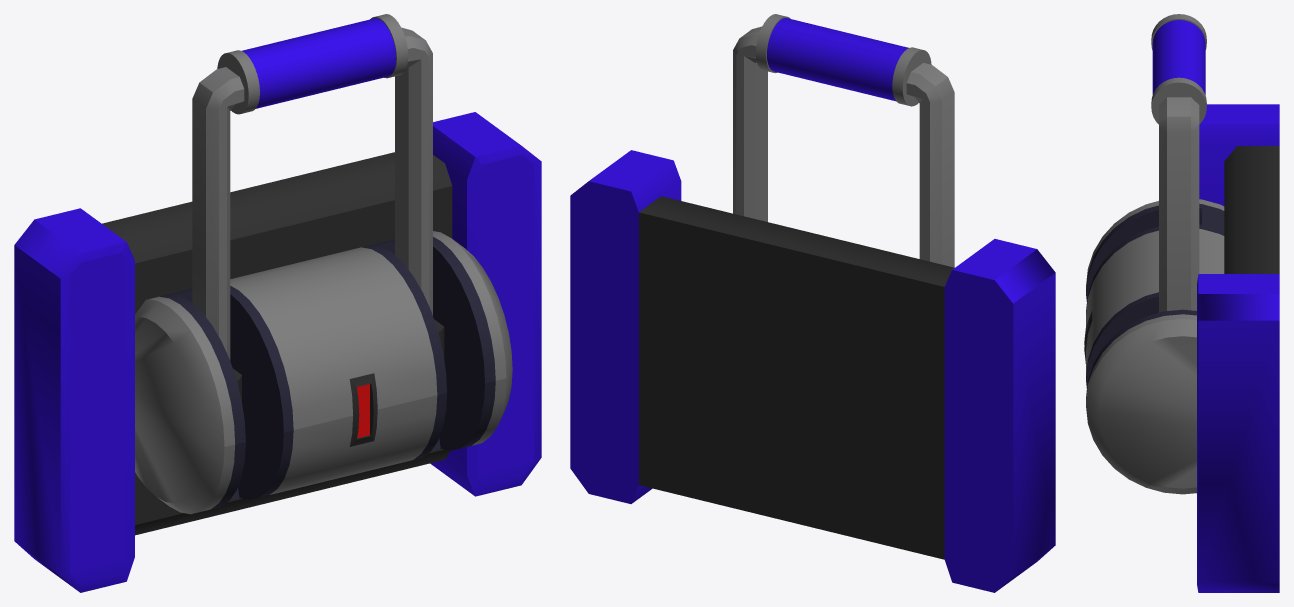
Rendered from Lever_3.fbx.
3 renders of one model, left to right at view 1: azimuth 30°, elevation 25°; view 2: azimuth 150°, elevation 25°; view 3: azimuth 270°, elevation 25°, orthographic. The views are drawn at different scales.
Parts seen in each view (by area): view 1: Cube.011, Cube.005; view 2: Cube.011, Cube.005; view 3: Cube.011, Cube.005.
Part boxes in pixels (bbox=[...]): Cube.011: bbox=[14, 112, 541, 592]; Cube.005: bbox=[192, 14, 444, 401]; Cube.011: bbox=[570, 150, 1055, 592]; Cube.005: bbox=[733, 14, 954, 267]; Cube.011: bbox=[1084, 104, 1279, 592]; Cube.005: bbox=[1151, 14, 1206, 312].
Size of the model in its own units: 17.67 by 17.95 by 7.06.
